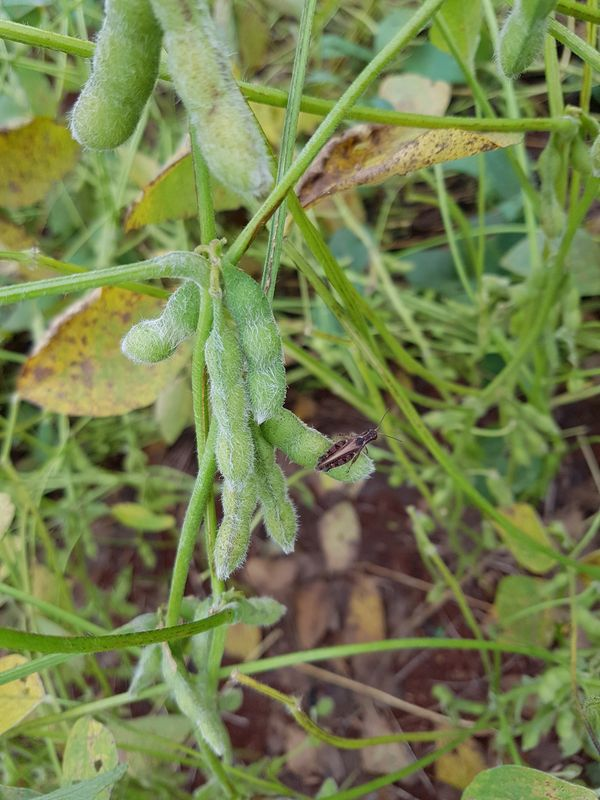Rhammatocerus_schistocercoides: (302, 402, 412, 490)
